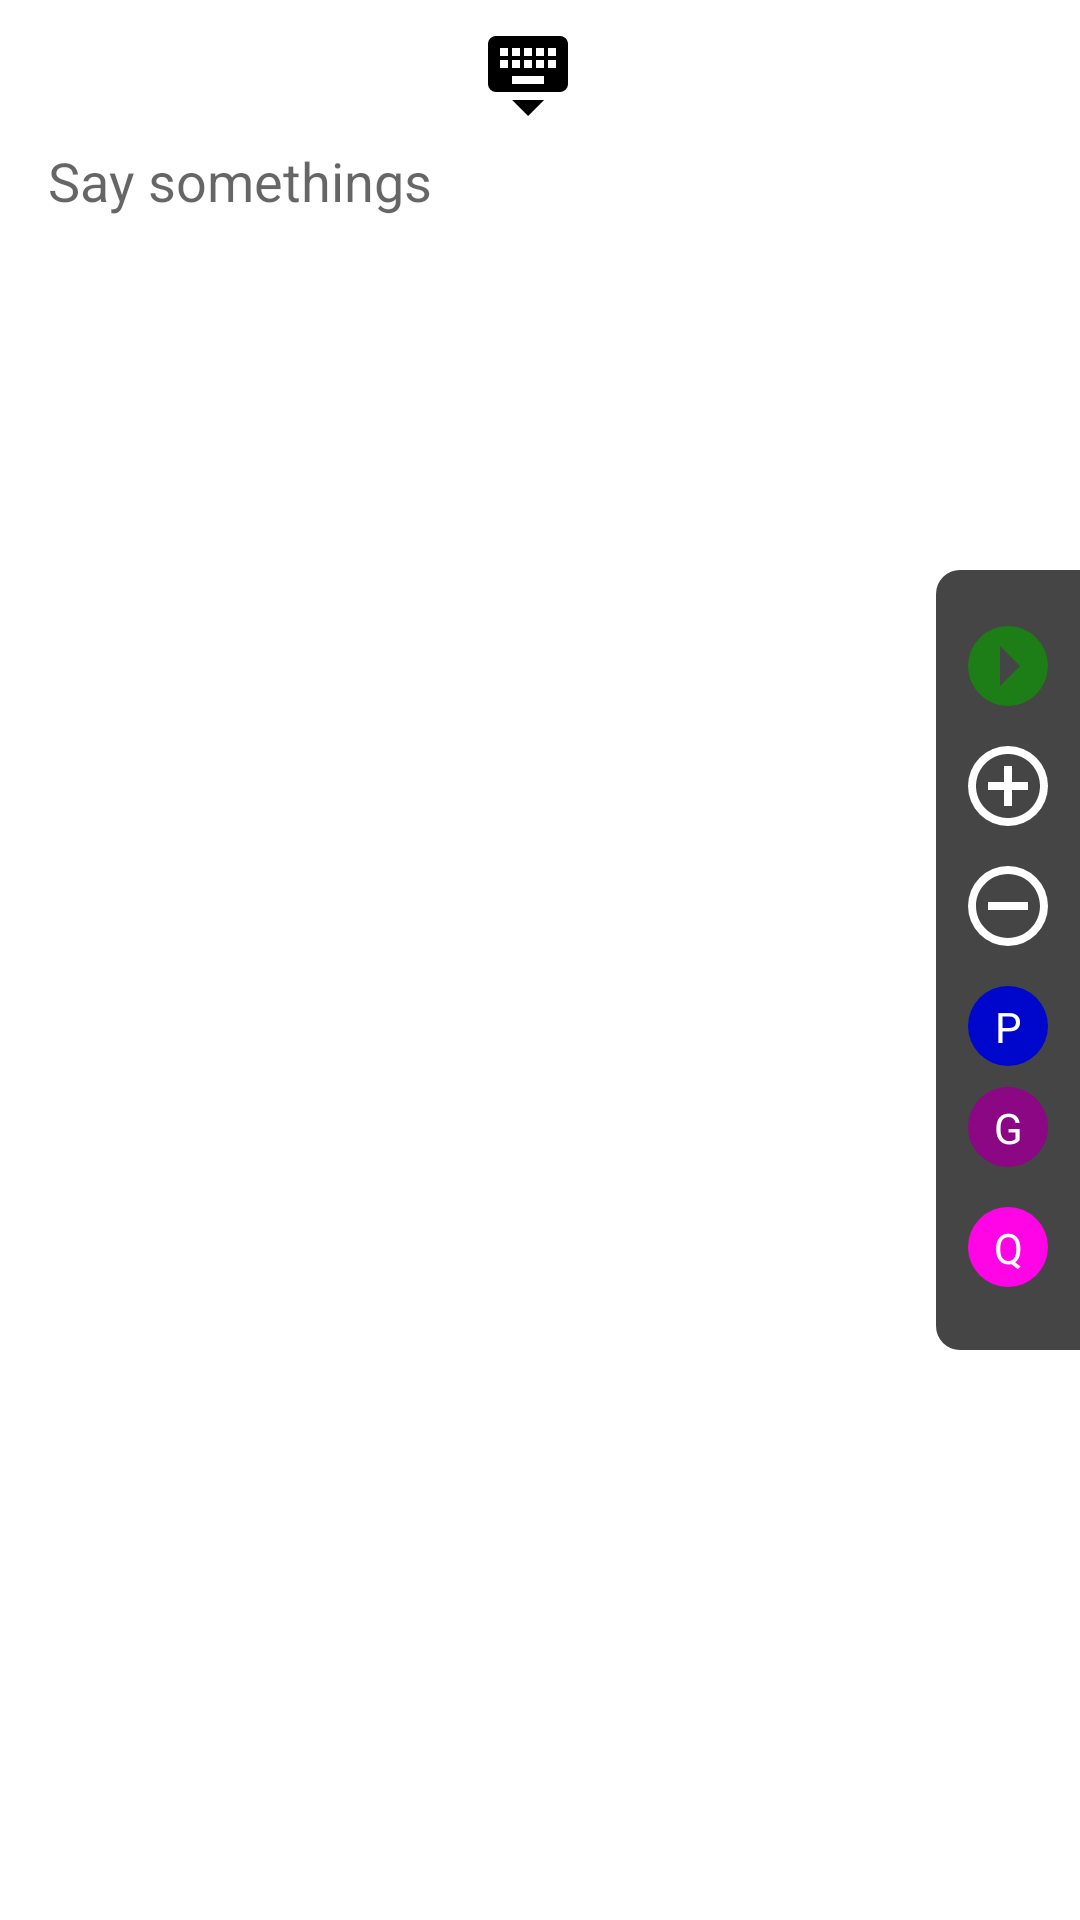

Icon bounding boxes for this 1080x1920 phone screenshot, format [left=x1, top=y1, right=x2, bottom=y2]:
keyboard: [left=488, top=36, right=568, bottom=116]
minus: [left=968, top=866, right=1048, bottom=946]
plus: [left=968, top=746, right=1048, bottom=826]
shape play: [left=968, top=626, right=1048, bottom=706]
